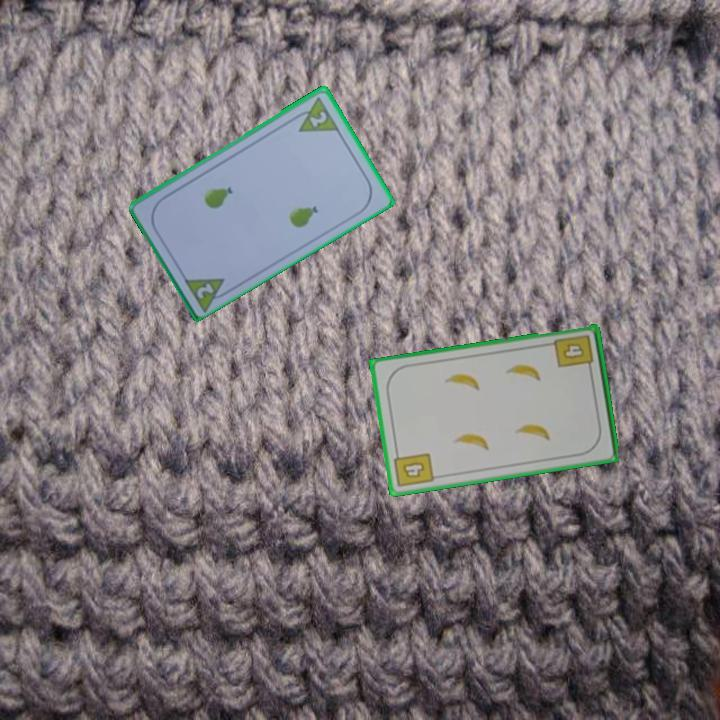2p: (289, 93, 342, 135), (193, 279, 217, 302)
4b: (551, 331, 597, 374), (391, 447, 436, 490)
